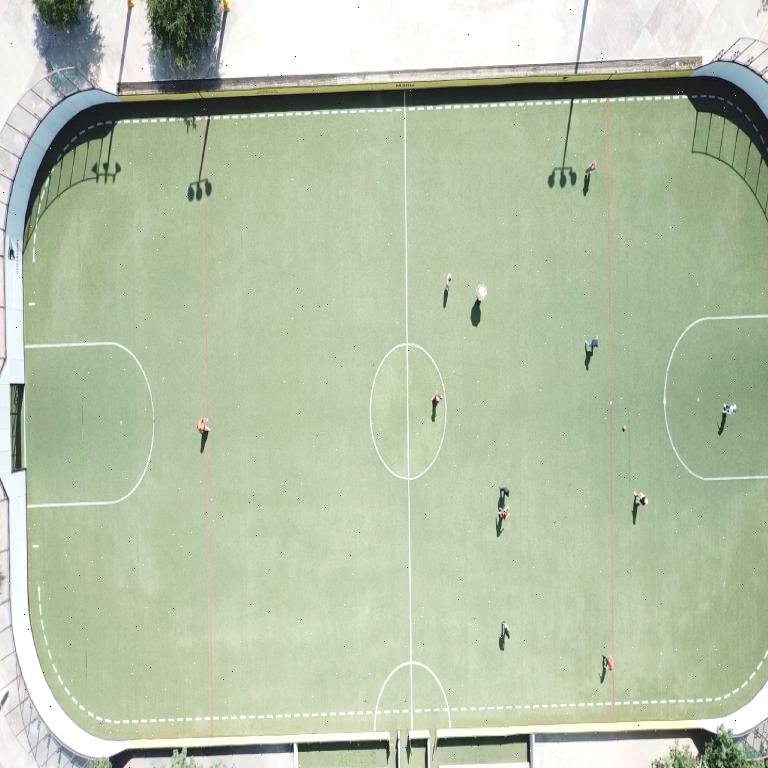AC: (25, 342, 153, 508), (664, 314, 767, 481)
B: (623, 426, 627, 431)
MC: (403, 93, 412, 729)
P: (197, 417, 210, 435), (475, 283, 486, 302), (633, 492, 647, 506), (584, 336, 597, 351), (602, 654, 612, 669), (498, 507, 507, 523), (431, 392, 440, 408), (585, 162, 596, 174), (723, 404, 735, 415), (499, 486, 509, 499), (501, 621, 509, 637), (445, 274, 451, 291)
